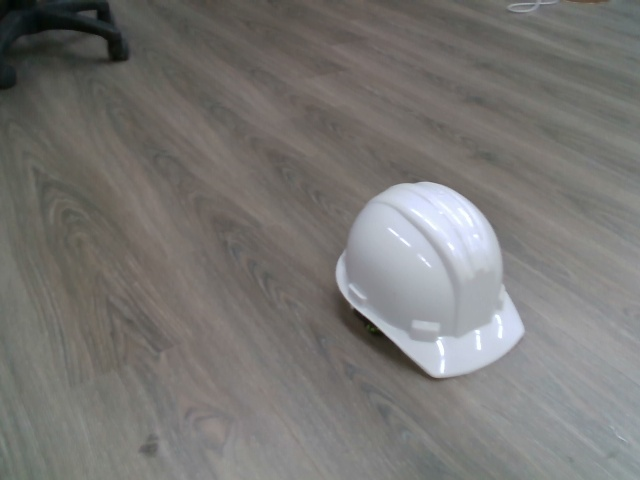helmet: (331, 175, 531, 383)
